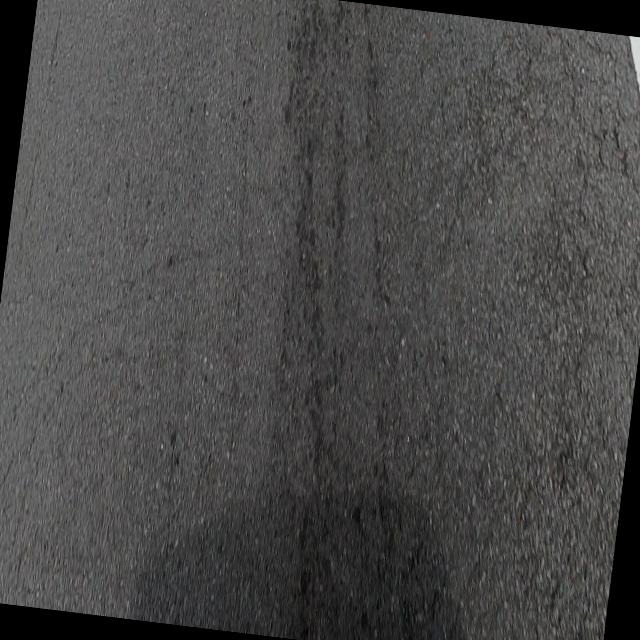Retak-Buaya: (440, 22, 640, 640)
